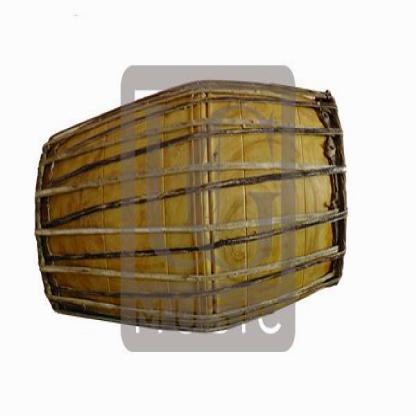Mridangam: (25, 71, 360, 332)
